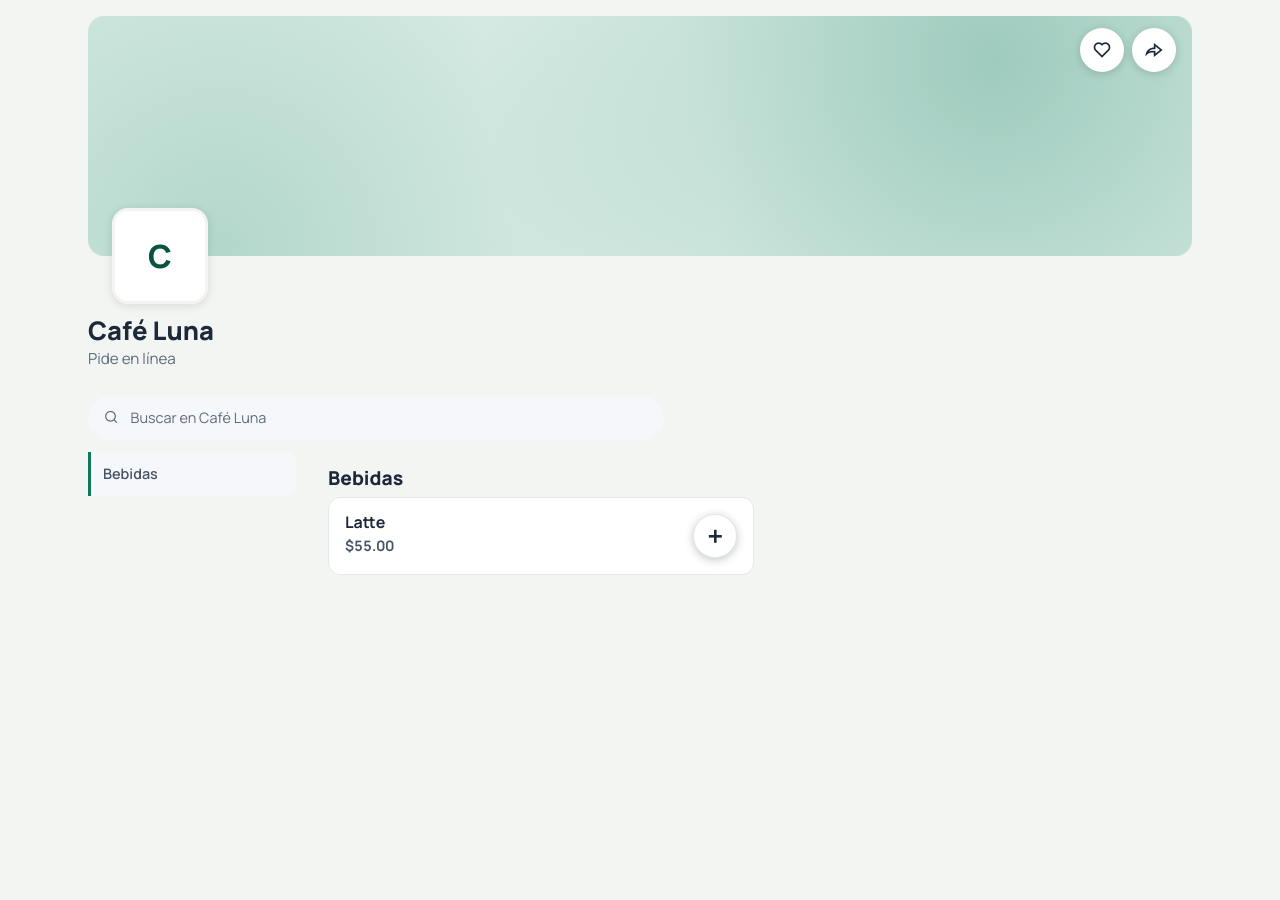
Test: PublicMenuPage › takes orders while the business receives them
Expected: the text "C" is shown, [112,208,208,304]
Click the button named "Agregar Latte" at (715, 536), box [693,514,737,558]
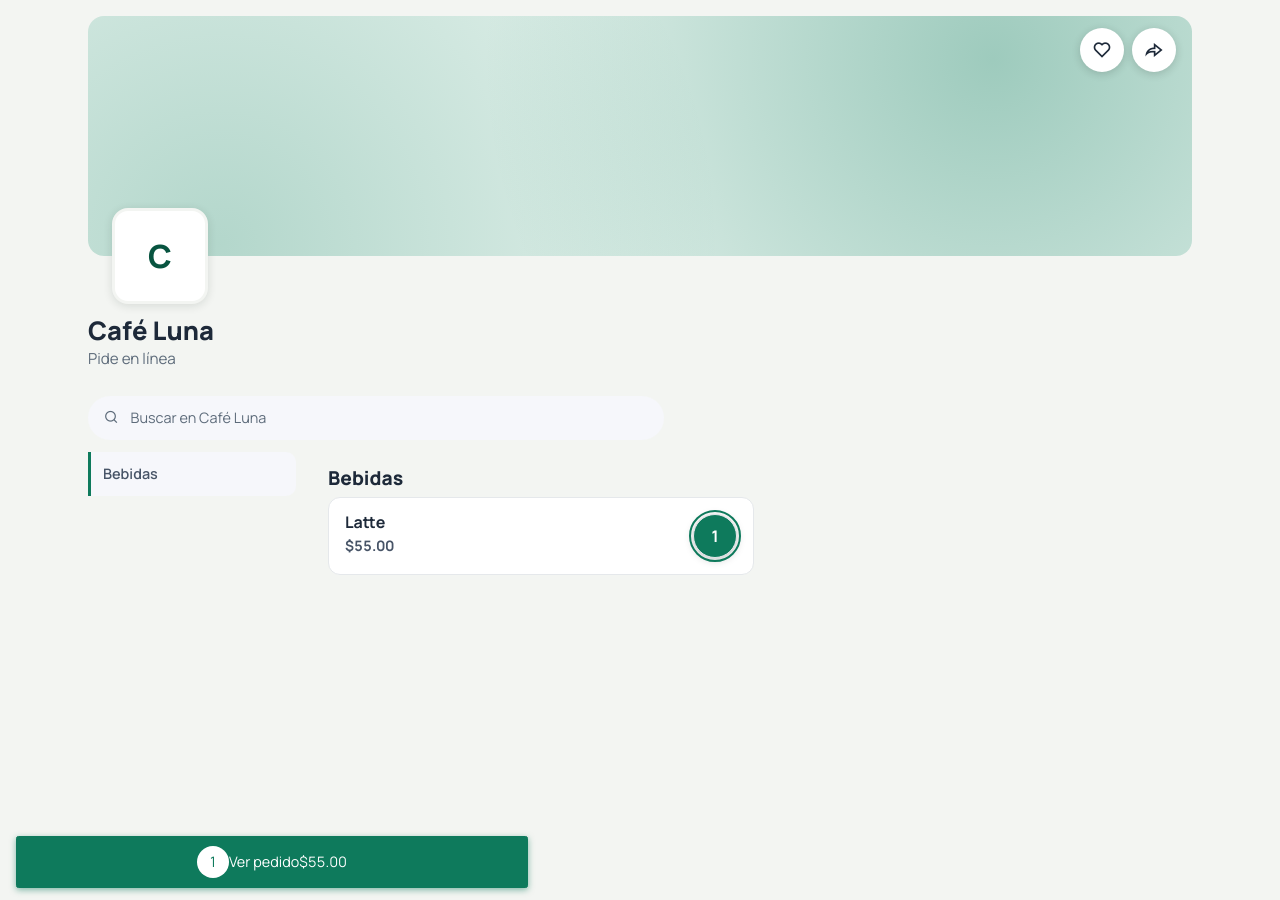
Click the button "1 Ver pedido$55.00" at (272, 862), box [16,836,528,888]
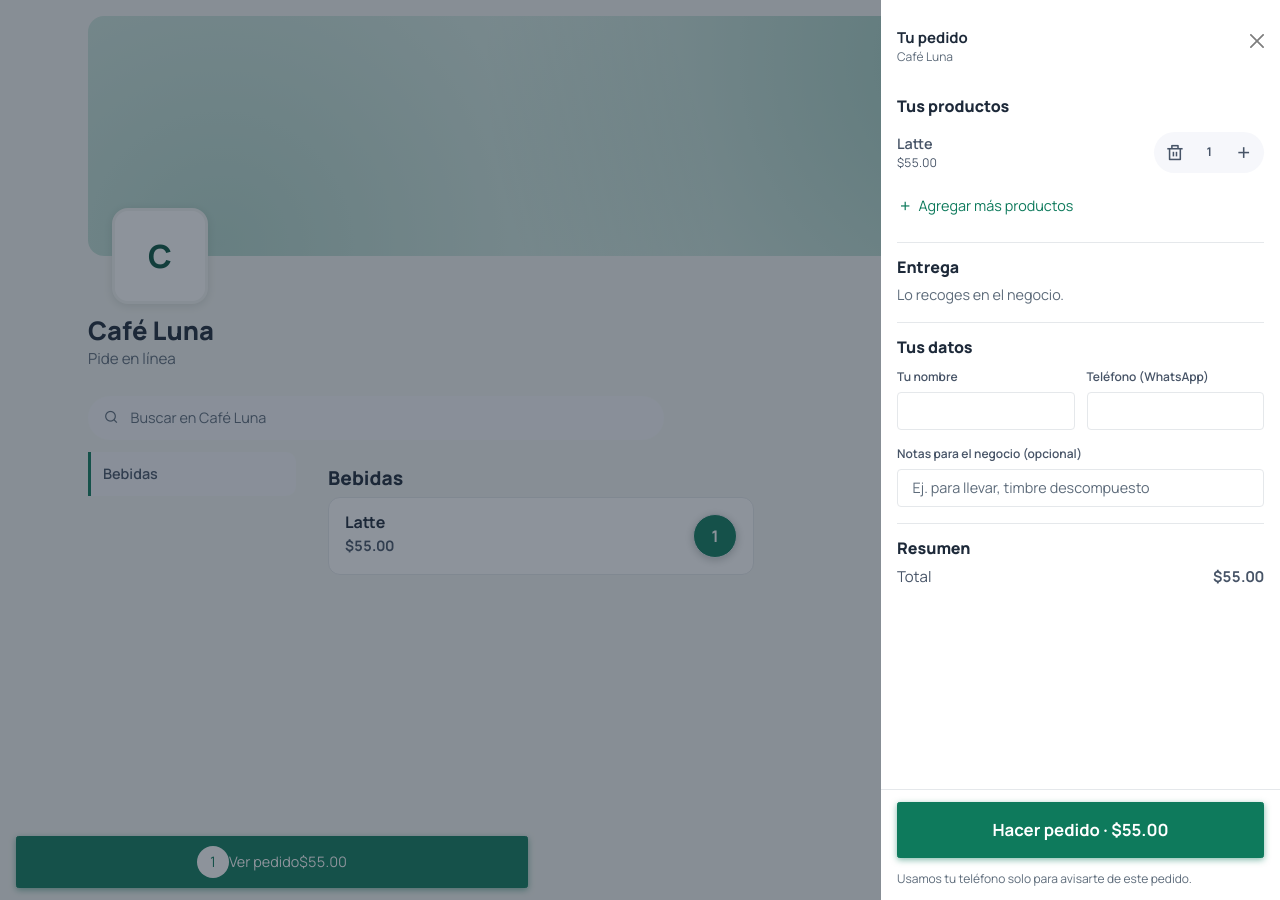
Expected: the text "Latte" is shown, [897,134,933,153]
